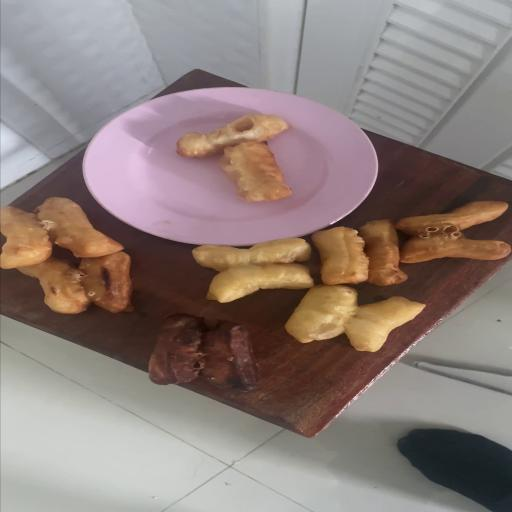street_burnt_defect: (146, 315, 256, 390), (14, 253, 133, 313)
street_golden_good: (192, 236, 314, 301)
